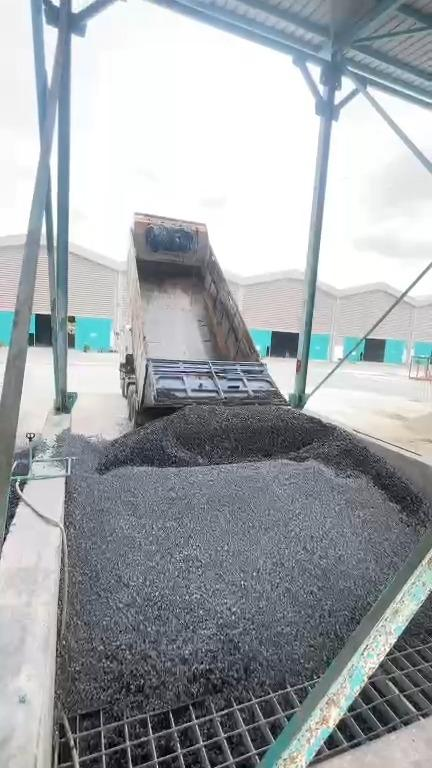gravel: (48, 427, 422, 722), (96, 406, 427, 519), (384, 595, 431, 660), (5, 481, 18, 536), (13, 446, 28, 475)
sand: (389, 411, 431, 456)
